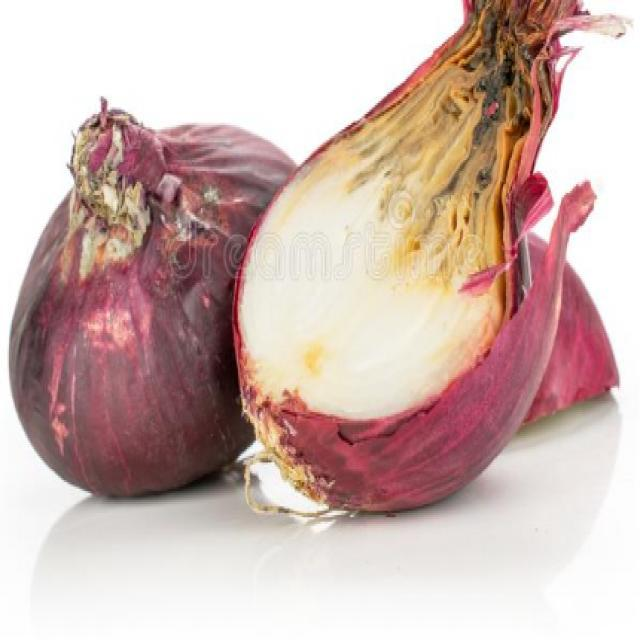rotten: (19, 294, 167, 488), (432, 6, 504, 252)
